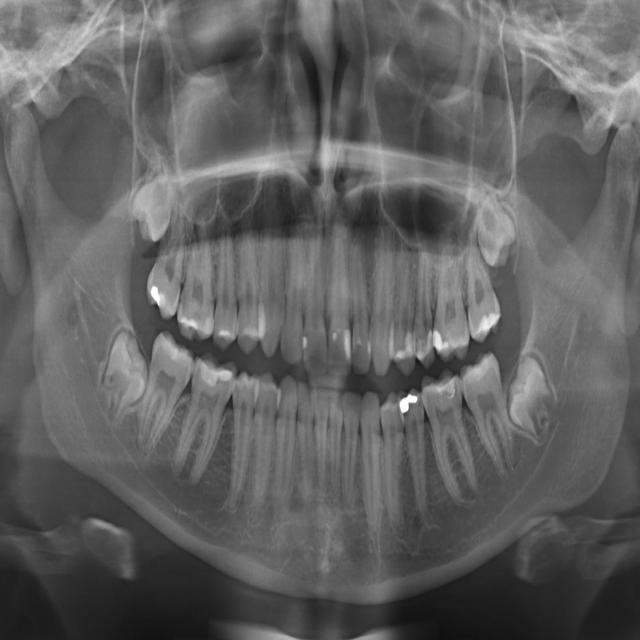3M ESPE Implant: (124, 167, 180, 246)
AGS Medikal Implant: (351, 229, 372, 377)
AMerOss Implant: (368, 204, 399, 378)
Amalgam filling: (393, 239, 418, 376)
Anthogyr Implant: (409, 239, 437, 370)
Bicon Implant: (427, 237, 472, 365)
BioHorizons Implant: (462, 218, 502, 344)
BioLife Implant: (469, 178, 522, 271)
Biomet 3i Implant: (489, 352, 572, 452)
Blue Sky Bio Implant: (456, 348, 521, 483)
Camlog Implant: (418, 366, 489, 510)
Caries: (141, 207, 192, 321)
Composite filling: (396, 386, 445, 532)
Cowellmedi Implant: (380, 390, 409, 531)
Crown: (359, 390, 383, 535)
DENTSPLY Implant: (339, 390, 360, 510)
Dentatus Implant: (327, 387, 343, 497)
Dentis Implant: (313, 386, 330, 490)
Dentium Implant: (297, 378, 315, 497)
Euroteknika Implant: (273, 375, 299, 497)
Filling: (248, 369, 282, 502)
Frontier Implant: (217, 368, 259, 510)
Hiossen Implant: (176, 210, 214, 342)
Implant: (157, 407, 158, 408)
Implant Direct: (167, 348, 240, 490)
Keystone Dental Implant: (89, 328, 161, 428)
MIS Implant: (213, 211, 243, 350)
Mandible: (238, 210, 266, 356)
Maxilla: (260, 182, 285, 358)
Megagen Implant: (280, 224, 306, 364)
Neodent Implant: (303, 227, 327, 376)
Neoss Implant: (327, 224, 351, 378)
